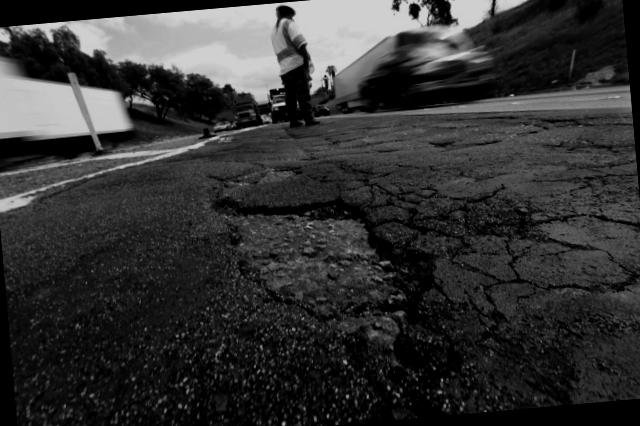Pothole: (184, 148, 541, 426)
